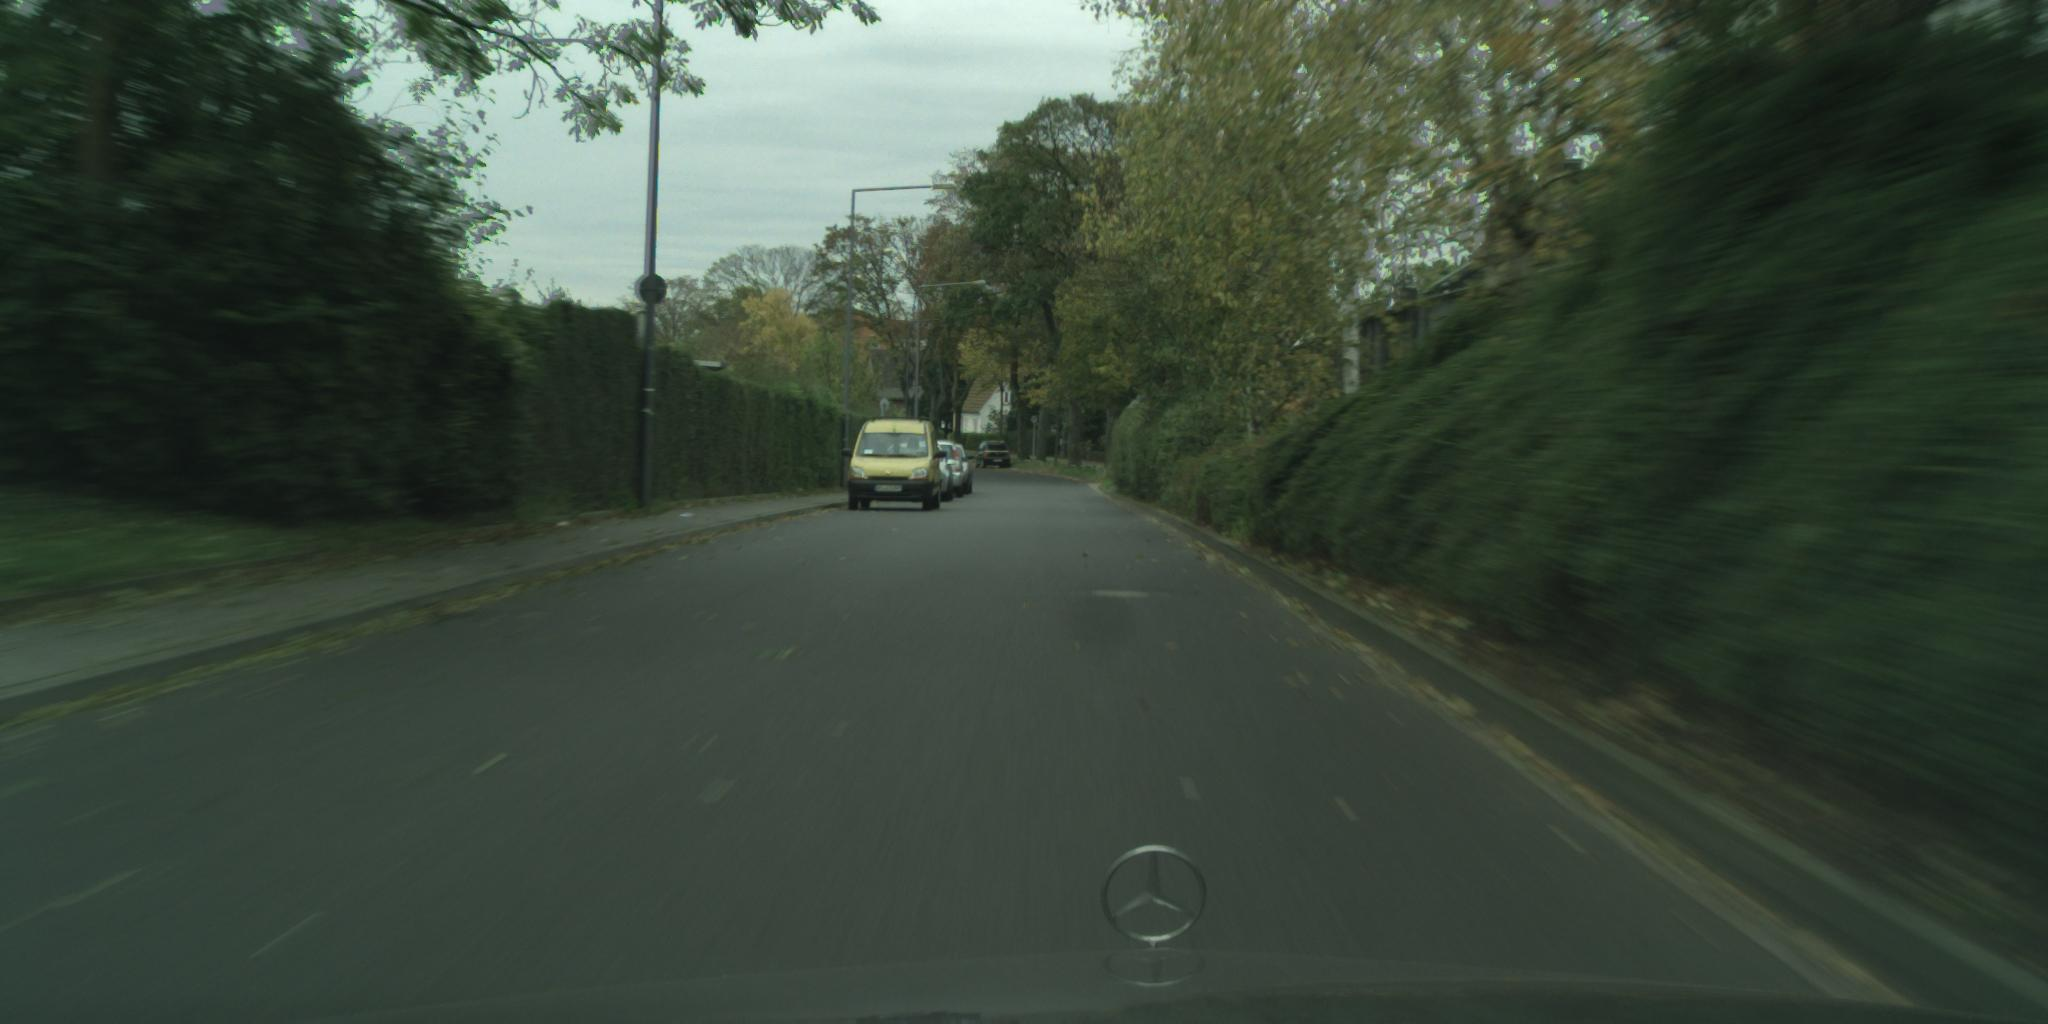car: (842, 417, 950, 512), (933, 440, 969, 499), (929, 445, 953, 502), (951, 443, 976, 496), (976, 439, 1012, 469)
